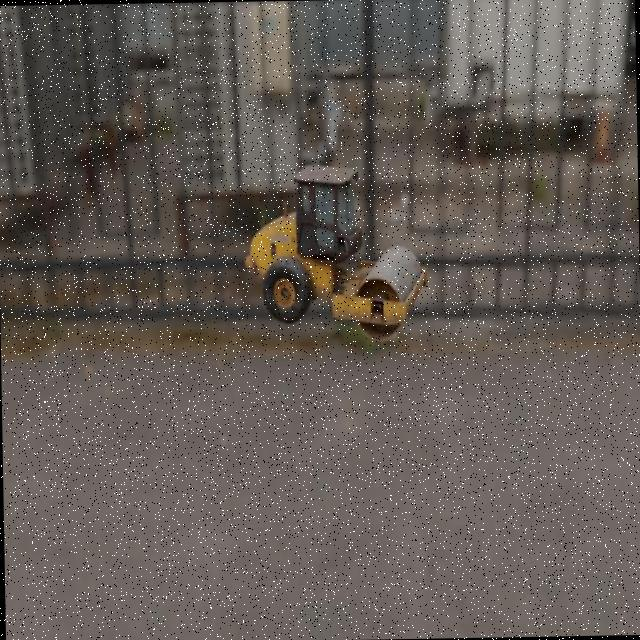Roller: (242, 160, 428, 344)
